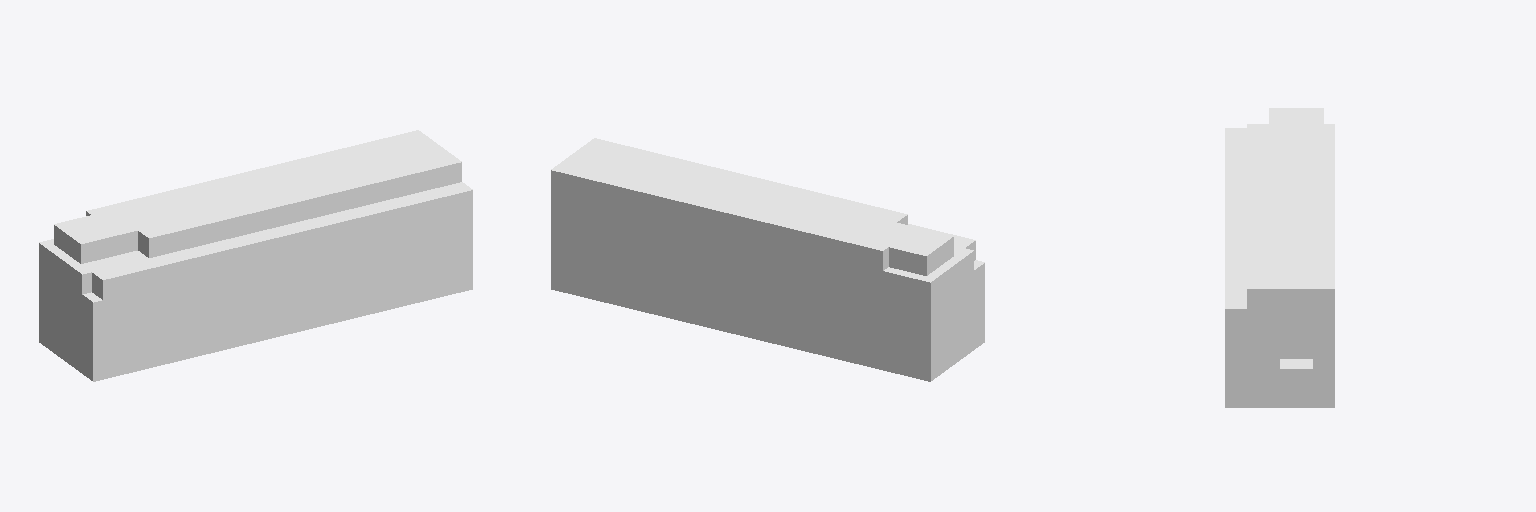
File: left_lower_arm.obj
The picture shows the model from 3 angles: view 1: azimuth 30°, elevation 25°; view 2: azimuth 150°, elevation 25°; view 3: azimuth 270°, elevation 25°; orthographic projection.
Size of the model in its own units: 40 by 12 by 10.